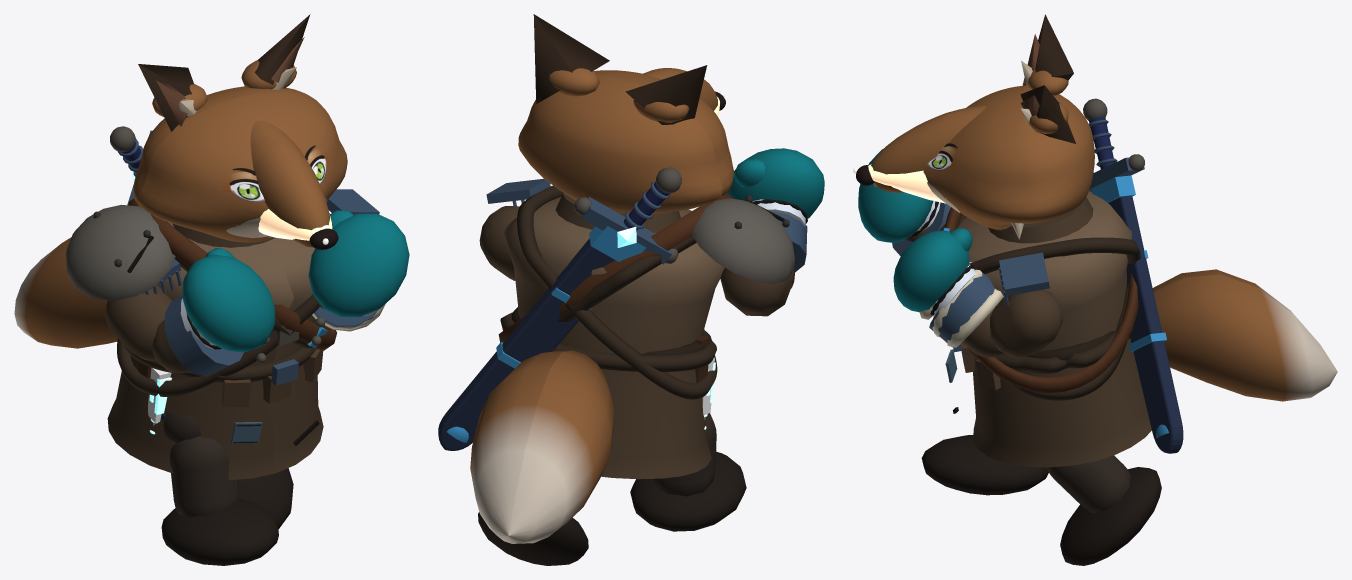
The model's file is rook_alt1.glb.
3 renders of one model, left to right at view 1: azimuth 30°, elevation 25°; view 2: azimuth 150°, elevation 25°; view 3: azimuth 270°, elevation 25°, orthographic. The views are drawn at different scales.
Visible parts, largest first — view 1: ROOK ALT 1, object 28, object 24, object 2, object 3, object 6, object 4; view 2: ROOK ALT 1, object 24, object 6, object 3, object 25; view 3: ROOK ALT 1, object 28, object 24, object 3, object 6, object 2.
Boxes of the visible parts, x1,y1,x2,y2 form: ROOK ALT 1: (14,60,385,565); object 28: (308,213,409,316); object 24: (182,254,275,352); object 2: (222,145,329,237); object 3: (138,64,194,131); object 6: (254,14,310,88); object 4: (156,79,187,126); ROOK ALT 1: (438,68,807,565); object 24: (727,148,824,218); object 6: (533,14,609,103); object 3: (625,65,707,124); object 25: (733,159,765,187); ROOK ALT 1: (853,69,1337,565); object 28: (893,230,969,312); object 24: (858,149,933,242); object 3: (1035,14,1073,80); object 6: (1020,85,1075,143); object 2: (927,143,960,212).
Size of the model in its own units: 1.66 by 2.77 by 2.49.
120 materials, 1 textured.
